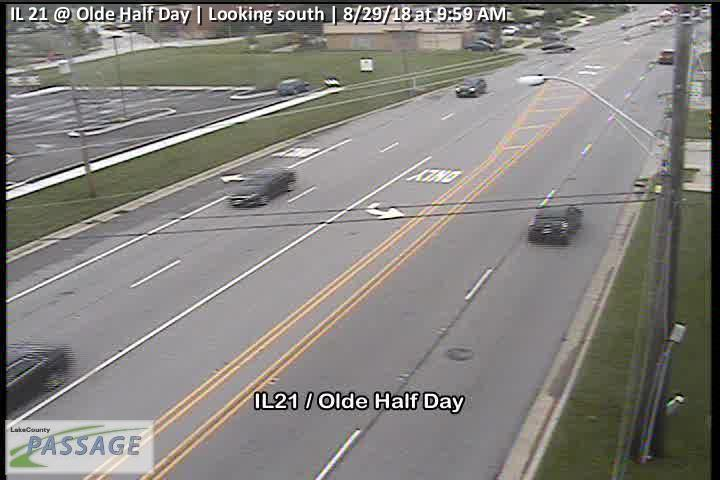SUV: (455, 76, 487, 97), (277, 78, 310, 96)
Sedan: (3, 340, 70, 410), (227, 166, 296, 208), (527, 202, 584, 246)
